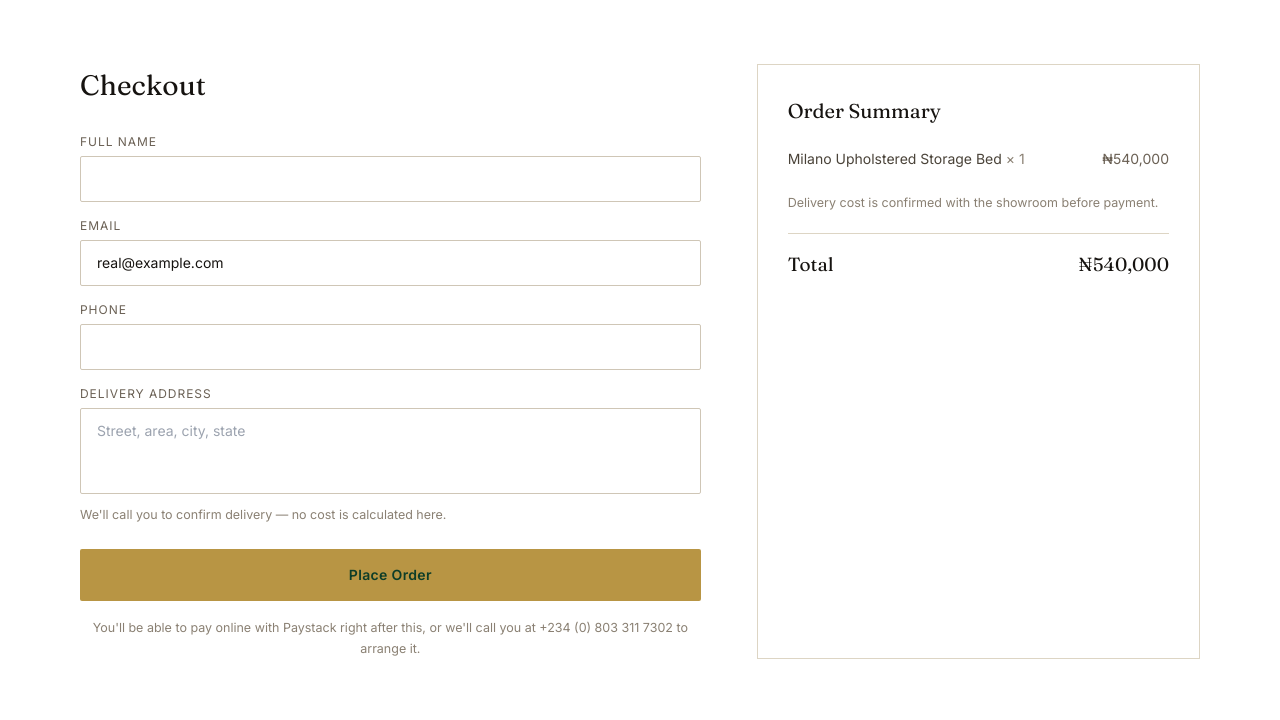
it: CheckoutView — authenticated › shows a friendly, actionable message when the cart holds a requires-quote item
The width and height of the screenshot is (1280, 720).
Type "  Ada Obi  " into the field labelled "Full name" at (390, 179), box [80, 156, 701, 202]
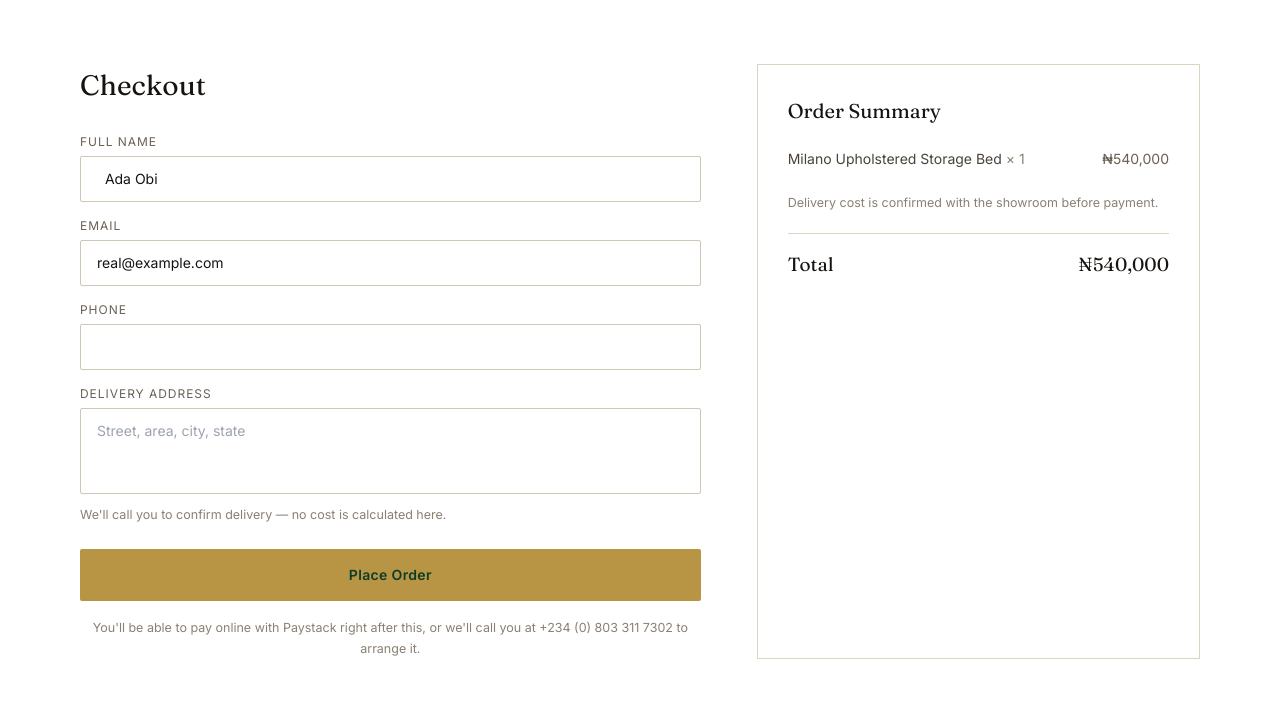
Replace the text in the field labelled "Email" with "ada@example.com" at (390, 263), box [80, 240, 701, 286]
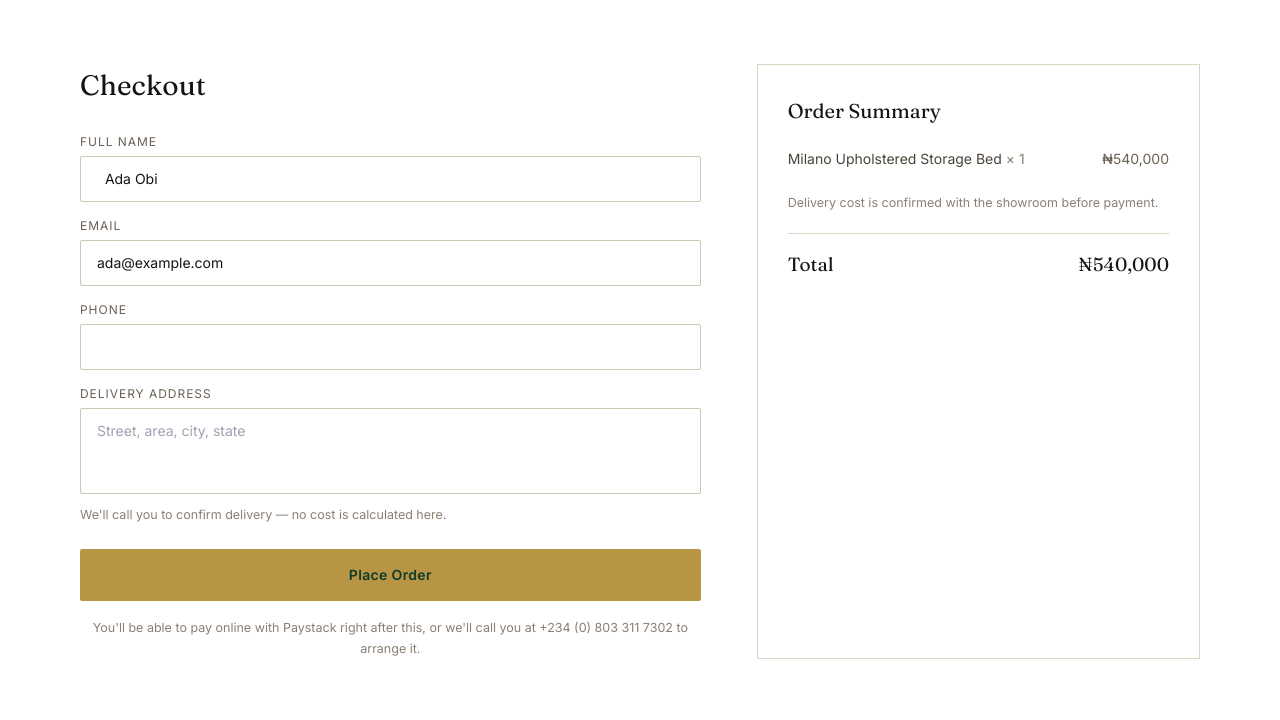
Type "08030000000" into the field labelled "Phone" at (390, 347), box [80, 324, 701, 370]
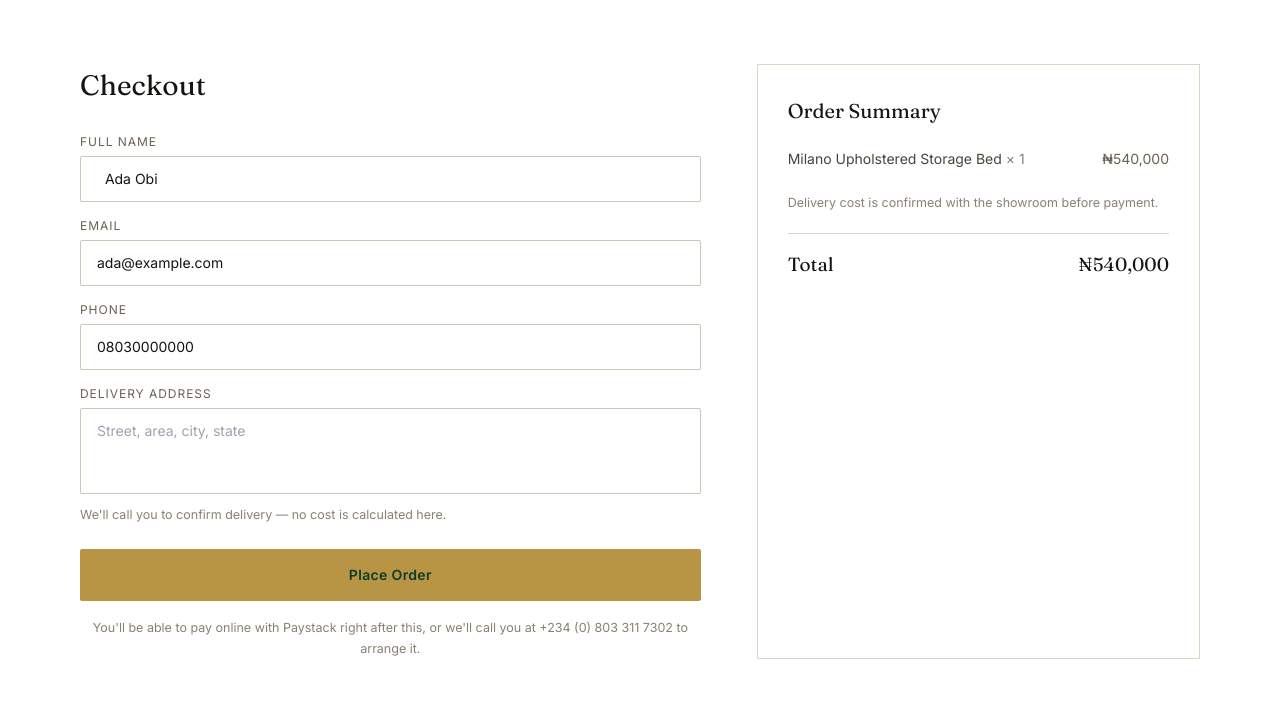
Type "12 Gudu Close, Abuja " into the text box labelled "Delivery address" at (390, 451), box [80, 408, 701, 494]
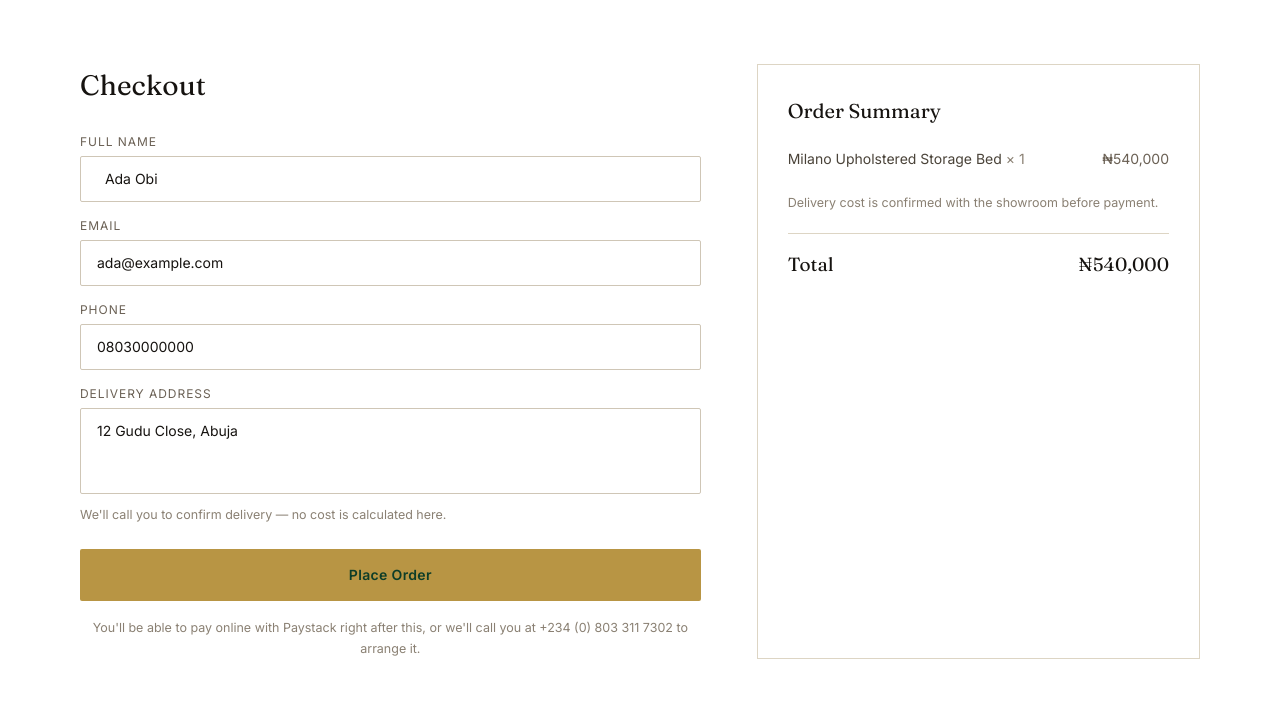
Click the button "Place Order" at (390, 575), box [80, 549, 701, 601]
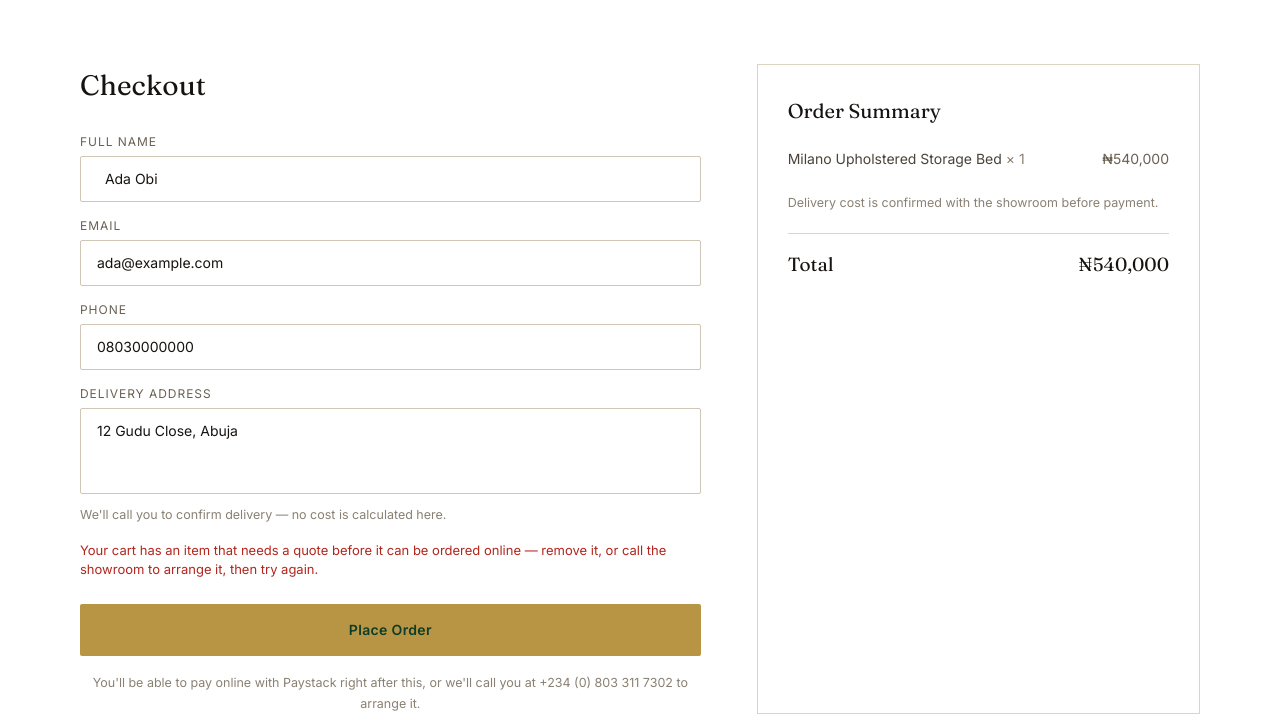
Expected: the text "needs a quote before it can be ordered online" is shown, [80, 542, 666, 577]
